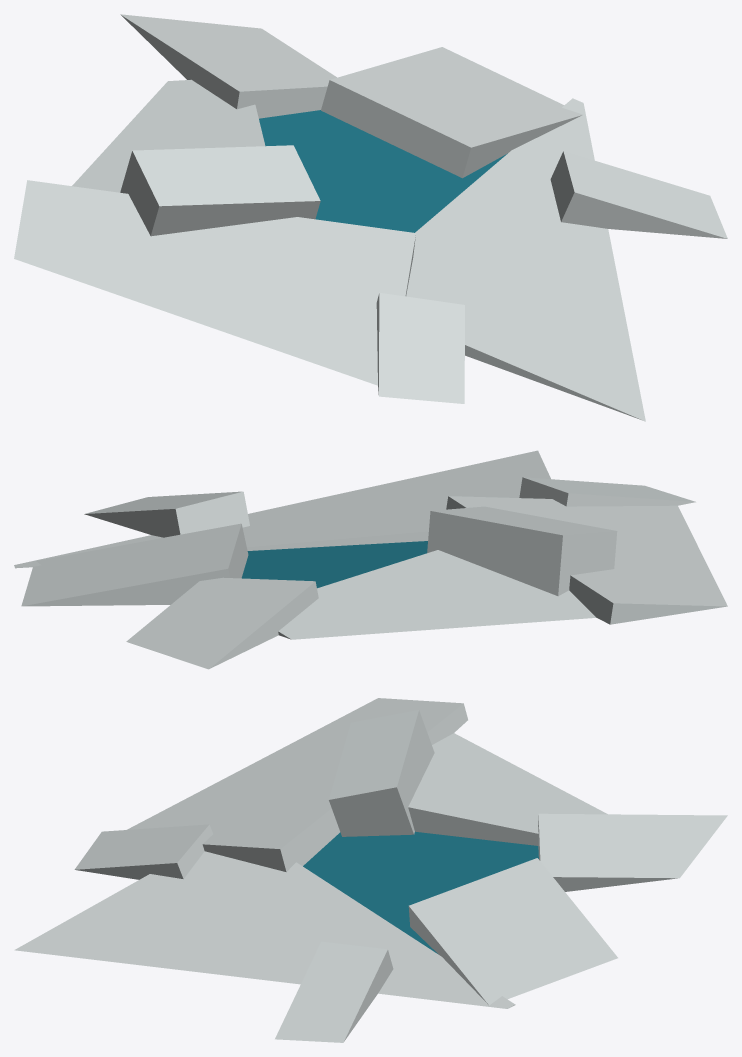
File: puddle.fbx
3 renders of one model, top to bottom at view 1: azimuth 30°, elevation 25°; view 2: azimuth 150°, elevation 25°; view 3: azimuth 270°, elevation 25°, orthographic. The views are drawn at different scales.
Visible parts, largest first — view 1: Box005; view 2: Box005; view 3: Box005.
Part boxes in pixels (x1=…): Box005: x1=14, y1=14, x2=727, y2=421; Box005: x1=14, y1=450, x2=727, y2=669; Box005: x1=14, y1=698, x2=727, y2=1042.
Size of the model in its own units: 89.36 by 98.63 by 20.01.
